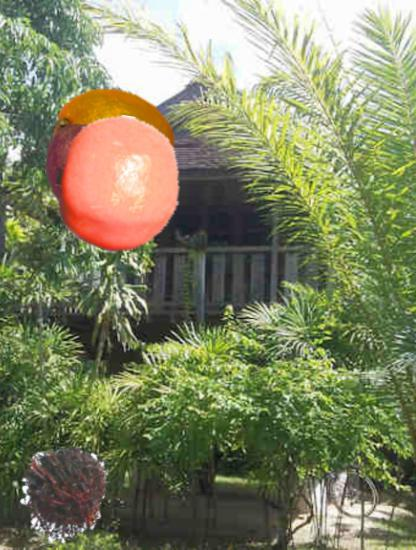Apple: (45, 121, 141, 217)
Clementine: (49, 115, 187, 253)
Lemon: (52, 81, 176, 205)
Rambutan: (8, 442, 116, 550)
